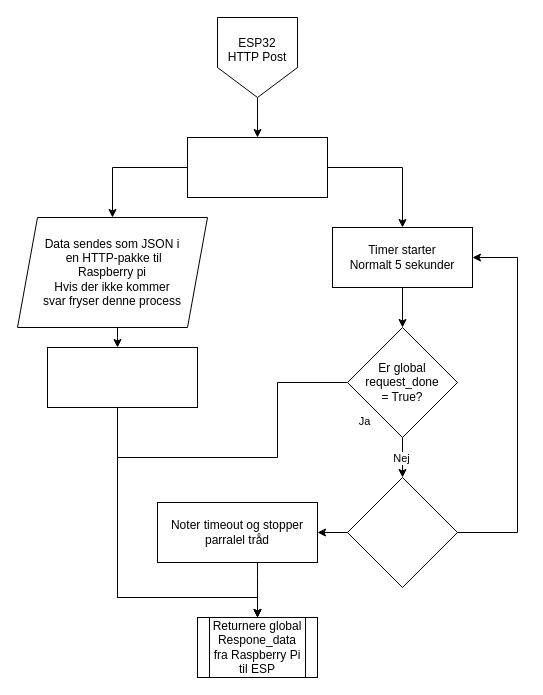
Image size: 543x695. Some labels were removed from this diagram. Each missing label, with the box of its shape:
Data bliver sendt til anden funktion som sender data med HTTP: (186, 136, 328, 198)
Er timer gået?: (346, 476, 458, 588)
request_done = True respone_data = data: (46, 346, 198, 408)
